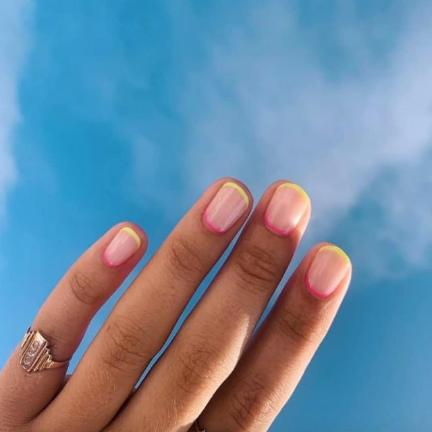Nail: (263, 182, 310, 237), (201, 182, 249, 234), (305, 245, 350, 298), (101, 227, 141, 270)
